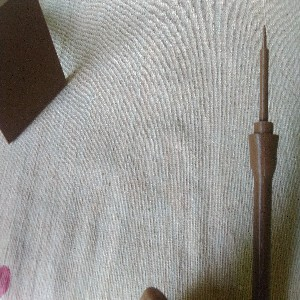solder: (247, 22, 281, 300)
